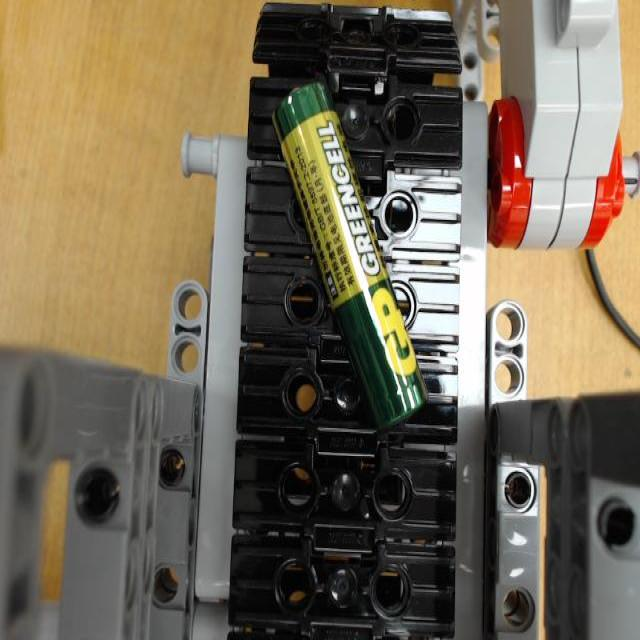AAA: (270, 79, 428, 432)
